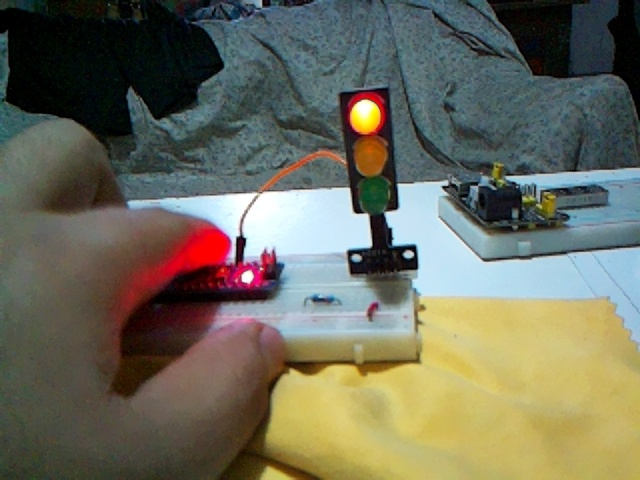traffic_light_red: (340, 87, 397, 214)
